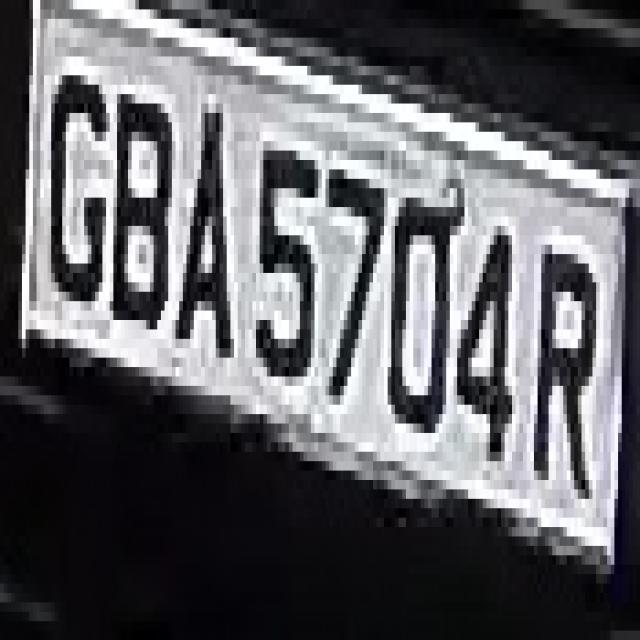0: (388, 179, 453, 452)
4: (450, 198, 523, 480)
5: (249, 104, 311, 414)
7: (300, 151, 384, 414)
A: (168, 76, 238, 377)
B: (110, 56, 164, 386)
G: (37, 38, 106, 358)
R: (523, 236, 600, 536)
